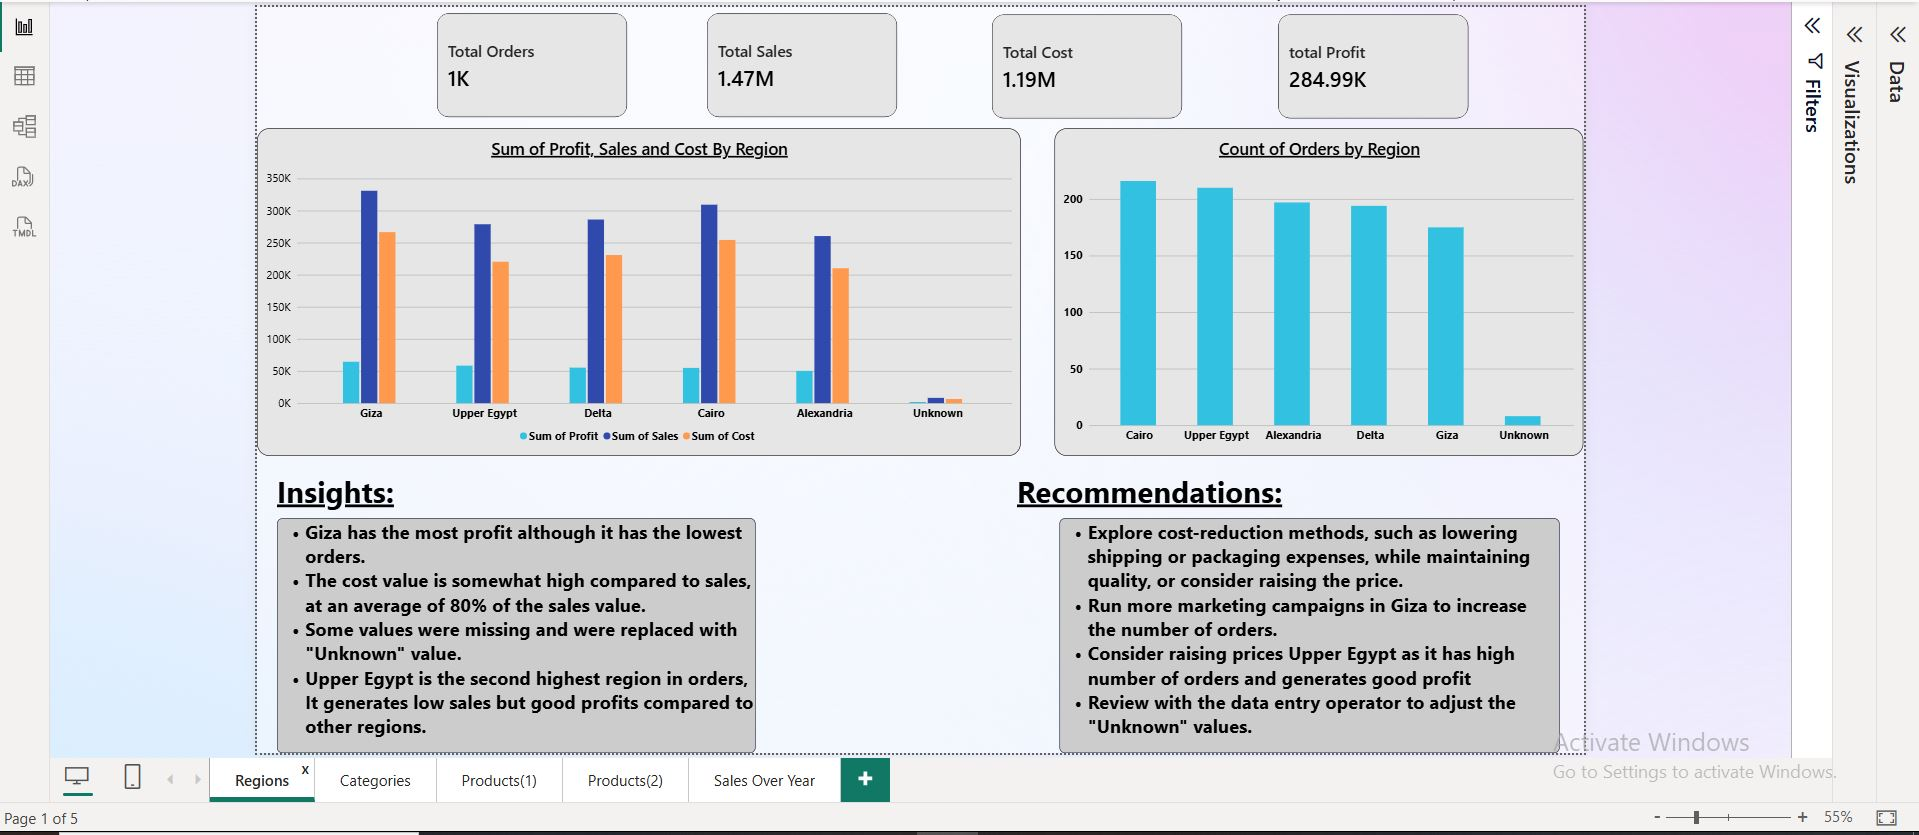

Layout of this report page (visuals, bound fields, positions):
{"tool":"powerbi","page":{"name":"Regions","canvas":[1920,1080],"ordinal":0},"visuals":[{"type":"clusteredColumnChart","title":"Sum of Profit, Sales and Cost By Region","fields":{"Category":["Sheet1.Region"],"Y":["Sum(Sheet1.Profit)","Sum(Sheet1.Sales)","Sum(Sheet1.Cost)"]},"box":[0,175.5,1105.7,474.1],"z":0},{"type":"clusteredColumnChart","title":"Count of Orders by Region","fields":{"Category":["Sheet1.Region"],"Y":["CountNonNull(Sheet1.Region)"]},"box":[1154.6,175.5,765.5,474.1],"z":1000},{"type":"textbox","box":[29,671.4,197.3,85.1],"z":2000},{"type":"textbox","box":[29,740.2,693.1,340.2],"z":3000},{"type":"textbox","box":[1100.3,671.4,423.5,85.1],"z":4000},{"type":"textbox","box":[1161.8,740.2,723.9,340.2],"z":5000},{"type":"cardVisual","fields":{"Data":["_measures.Total Sales"]},"box":[651.5,9,275,150],"z":5001},{"type":"cardVisual","fields":{"Data":["_measures.Total Cost"]},"box":[1064.1,10.9,275,150],"z":5002},{"type":"cardVisual","fields":{"Data":["_measures.total Profit"]},"box":[1478.5,10.9,275,150],"z":5003},{"type":"cardVisual","fields":{"Data":["_measures.Total Orders"]},"box":[260.6,9,275,150],"z":5004}]}

Visuals, with their boxes on the page's 1920x1080 design canvas (x1, y1, x2, y2). These are canvas units, not pixel positions in the 1919x835 screenshot, which may show the page scaled, cropped or inside an application window:
"Sum of Profit, Sales and Cost By Region" clusteredColumnChart: x1=0 y1=176 x2=1106 y2=650
"Count of Orders by Region" clusteredColumnChart: x1=1155 y1=176 x2=1920 y2=650
textbox: x1=29 y1=671 x2=226 y2=756
textbox: x1=29 y1=740 x2=722 y2=1080
textbox: x1=1100 y1=671 x2=1524 y2=756
textbox: x1=1162 y1=740 x2=1886 y2=1080
cardVisual - _measures.Total Sales: x1=652 y1=9 x2=926 y2=159
cardVisual - _measures.Total Cost: x1=1064 y1=11 x2=1339 y2=161
cardVisual - _measures.total Profit: x1=1478 y1=11 x2=1754 y2=161
cardVisual - _measures.Total Orders: x1=261 y1=9 x2=536 y2=159
